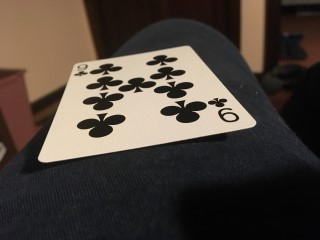NineOfClubs: (38, 45, 256, 162)
